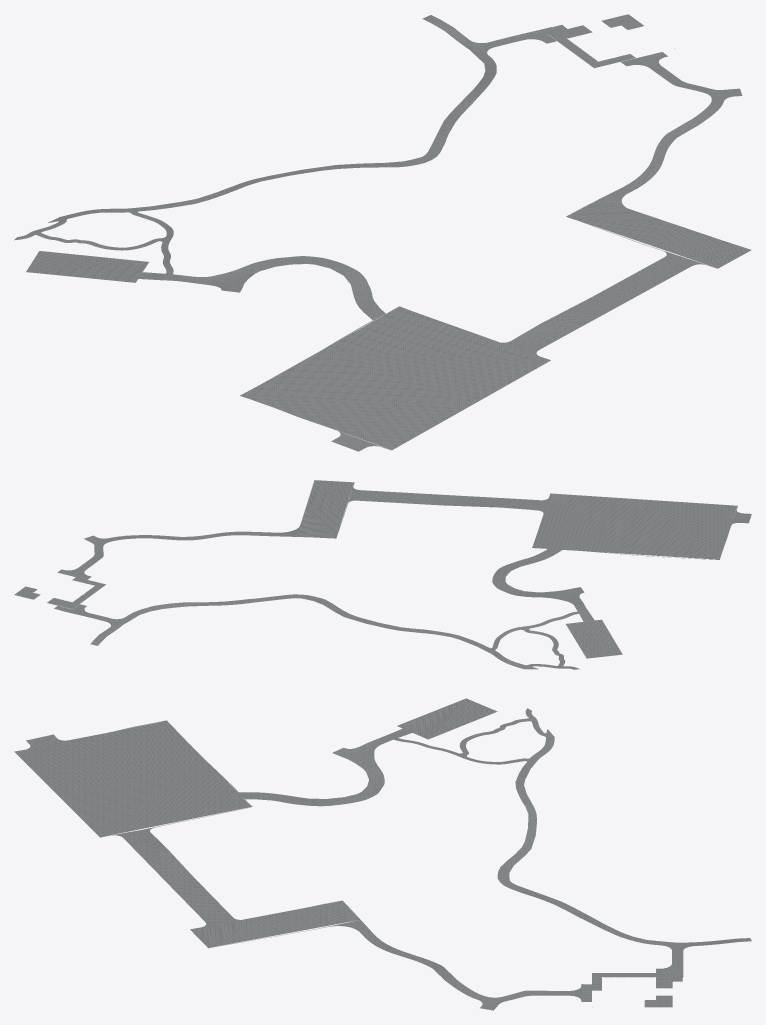
File: pavement.glb
3 renders of one model, top to bottom at view 1: azimuth 30°, elevation 25°; view 2: azimuth 150°, elevation 25°; view 3: azimuth 270°, elevation 25°, orthographic. The views are drawn at different scales.
Parts seen in each view (by area): view 1: pavement; view 2: pavement; view 3: pavement.
Boxes of the visible parts, bbox=[...] form: pavement: bbox=[14, 14, 751, 451]; pavement: bbox=[14, 480, 751, 669]; pavement: bbox=[14, 698, 751, 1010].
Bounding box in the file's own units: 586 × 11.43 × 596.
1 material, 1 textured.
